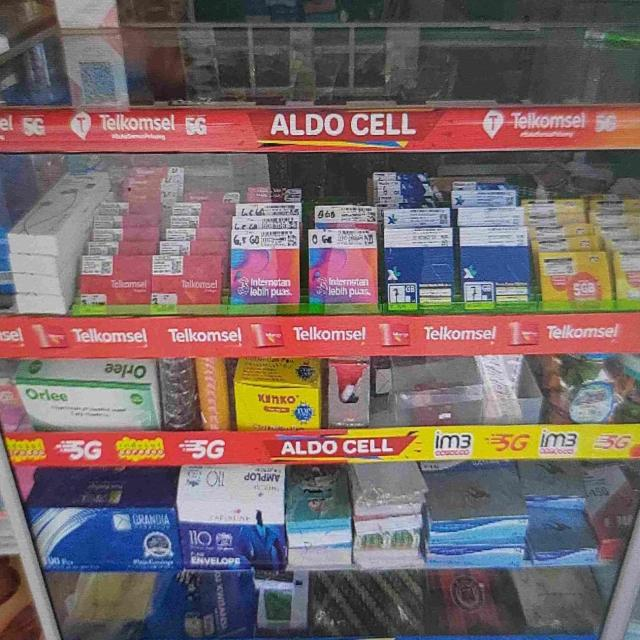Gratis Nelpon: (378, 175, 455, 303), (456, 178, 528, 303)
Indosat-3: (310, 201, 376, 308), (234, 206, 302, 306)
Telkomsel: (79, 254, 150, 307), (92, 203, 159, 254), (163, 206, 230, 255), (154, 255, 222, 302), (125, 161, 184, 201)
im3: (531, 188, 640, 308)
